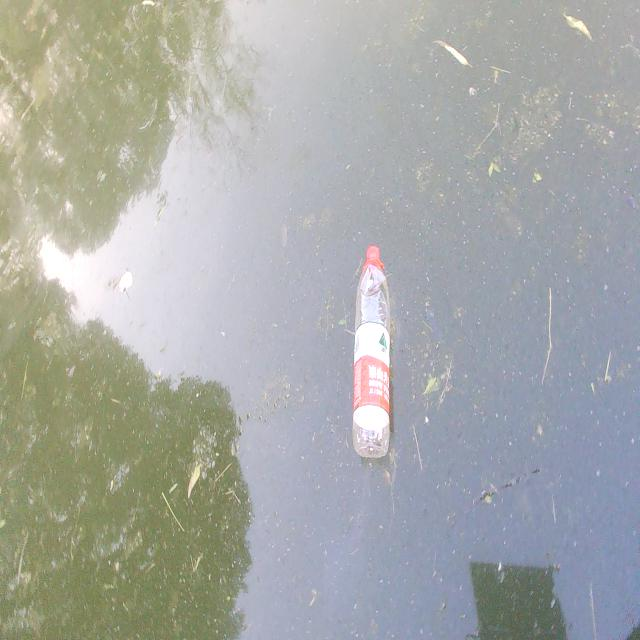bottle: (334, 240, 401, 465)
